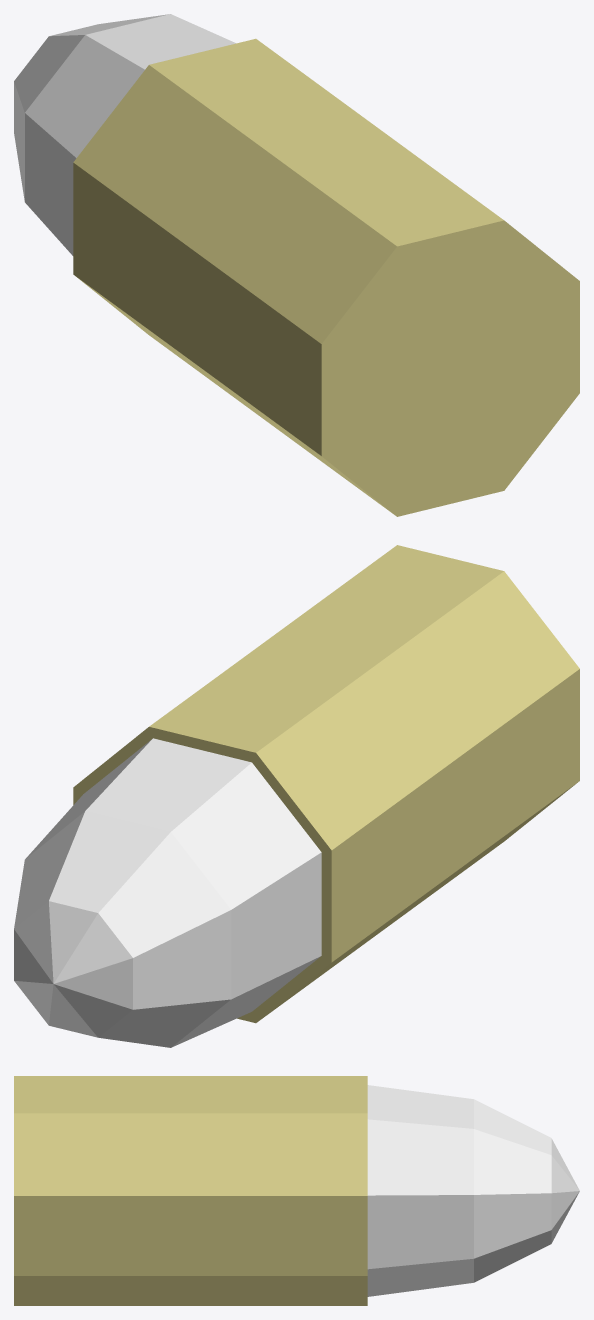
The model's file is ce_ammo_revolver_ap_a.obj.
3 renders of one model, top to bottom at view 1: azimuth 30°, elevation 25°; view 2: azimuth 150°, elevation 25°; view 3: azimuth 270°, elevation 25°, orthographic. The views are drawn at different scales.
Visible parts, largest first — view 1: ce_ammo_revolver_ap_a_0, ce_ammo_revolver_ap_a_1, ce_ammo_revolver_ap_a_2; view 2: ce_ammo_revolver_ap_a_0, ce_ammo_revolver_ap_a_1, ce_ammo_revolver_ap_a_2, ce_ammo_revolver_ap_a_3; view 3: ce_ammo_revolver_ap_a_0, ce_ammo_revolver_ap_a_1, ce_ammo_revolver_ap_a_2, ce_ammo_revolver_ap_a_3.
Boxes of the visible parts, box(x1,y1,x2,y2) form: ce_ammo_revolver_ap_a_0: box(73, 38, 579, 516); ce_ammo_revolver_ap_a_1: box(25, 14, 235, 255); ce_ammo_revolver_ap_a_2: box(14, 14, 168, 201); ce_ammo_revolver_ap_a_0: box(73, 545, 579, 1023); ce_ammo_revolver_ap_a_1: box(26, 738, 321, 1047); ce_ammo_revolver_ap_a_2: box(14, 811, 231, 1047); ce_ammo_revolver_ap_a_3: box(14, 901, 132, 1037); ce_ammo_revolver_ap_a_0: box(14, 1076, 367, 1305); ce_ammo_revolver_ap_a_1: box(367, 1085, 473, 1296); ce_ammo_revolver_ap_a_2: box(474, 1099, 551, 1282); ce_ammo_revolver_ap_a_3: box(551, 1139, 579, 1242).
Size of the model in its own units: 0.1202 by 0.1202 by 0.32.
